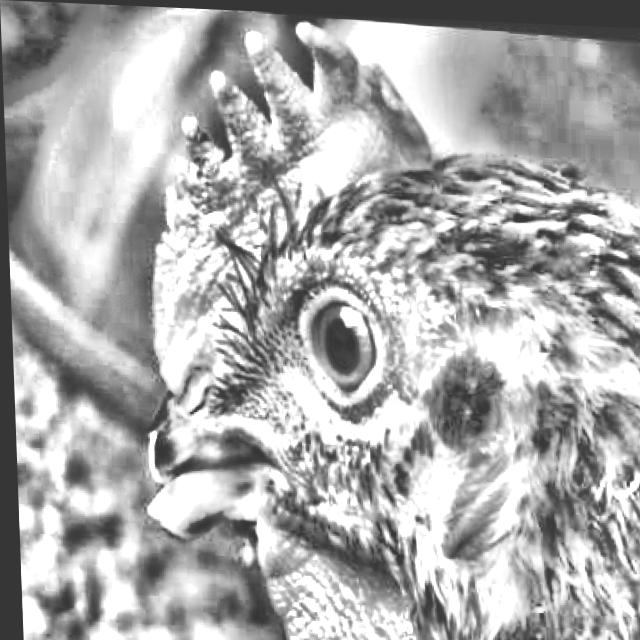Healthy: (261, 284, 394, 414)
